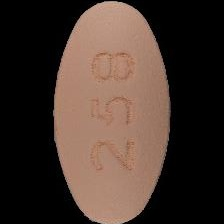21695-231: (0, 0, 224, 224)
